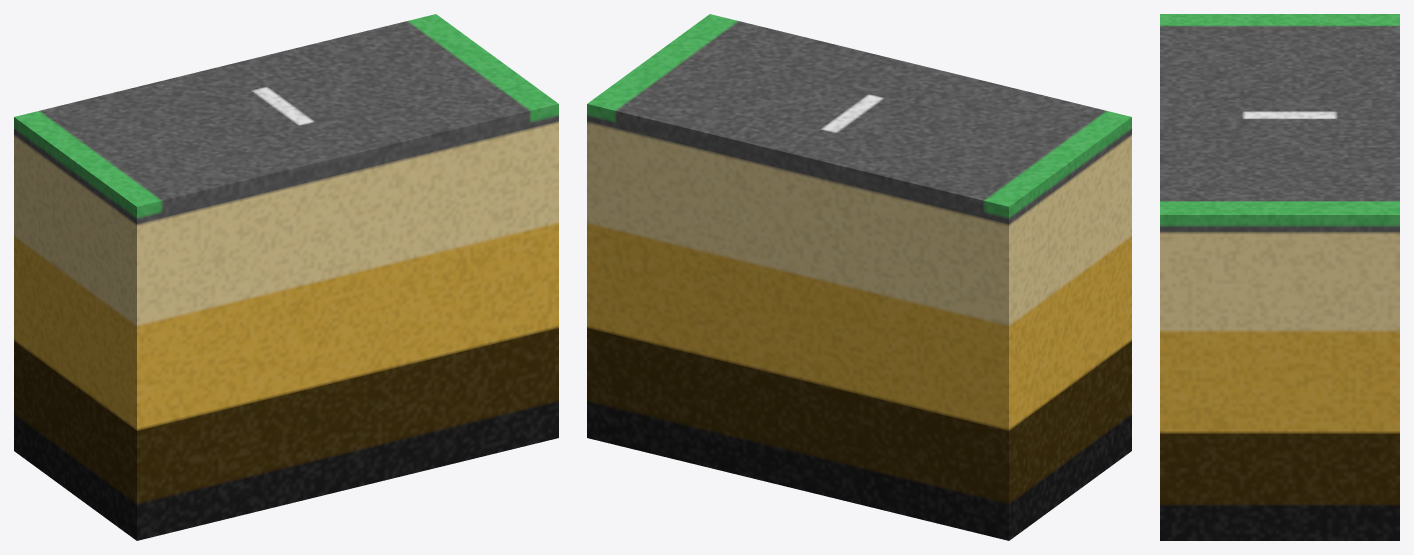
Rendered from ObstacleRoad.fbx.
The picture shows the model from 3 angles, left to right: view 1: azimuth 30°, elevation 25°; view 2: azimuth 150°, elevation 25°; view 3: azimuth 270°, elevation 25°; orthographic projection. The views are drawn at different scales.
Visible parts, largest first — view 1: Road; view 2: Road; view 3: Road.
Boxes of the visible parts, <box> form: Road: <box>14,14,558,540</box>; Road: <box>587,14,1131,540</box>; Road: <box>1160,14,1399,540</box>.
Bounding box in the file's own units: 119 × 90 × 60.
Materials: 1 (1 with a texture image).
